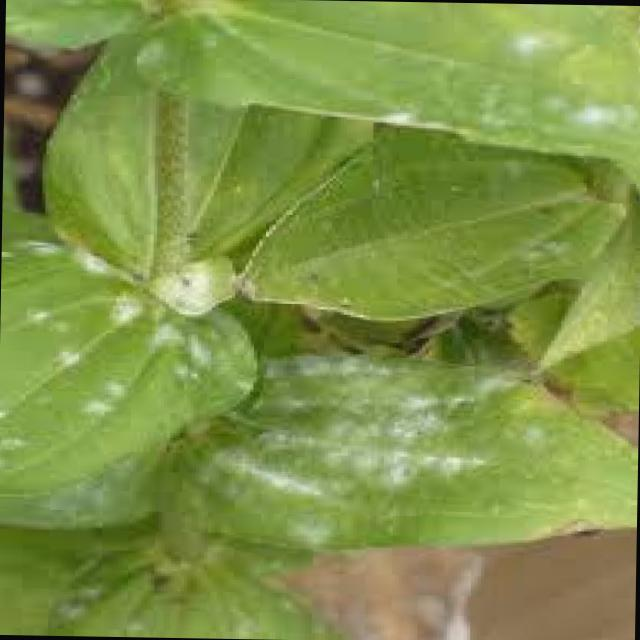Downy_Mildew: (205, 356, 639, 572), (310, 1, 622, 183), (1, 226, 187, 469)
